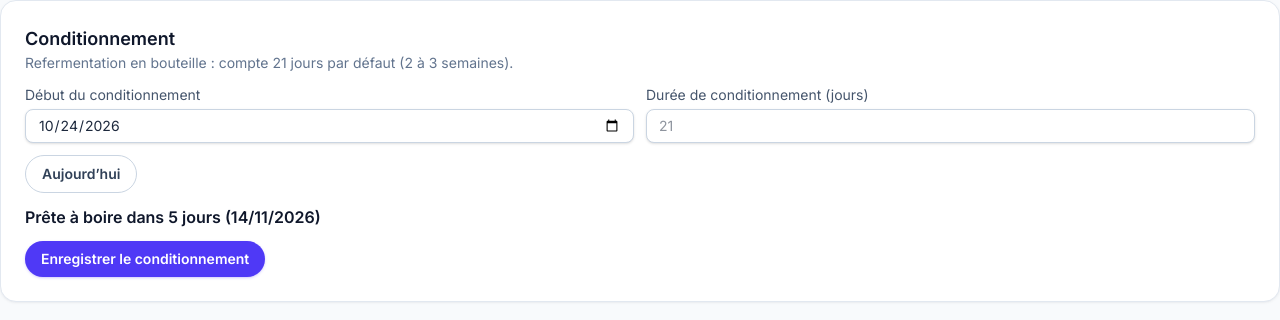
ConditioningCard › recalcule en direct quand on change la date
The image size is (1280, 320).
Type "2026-11-01" into the date field labelled "Début du conditionnement" at (330, 126), box [25,109,634,143]
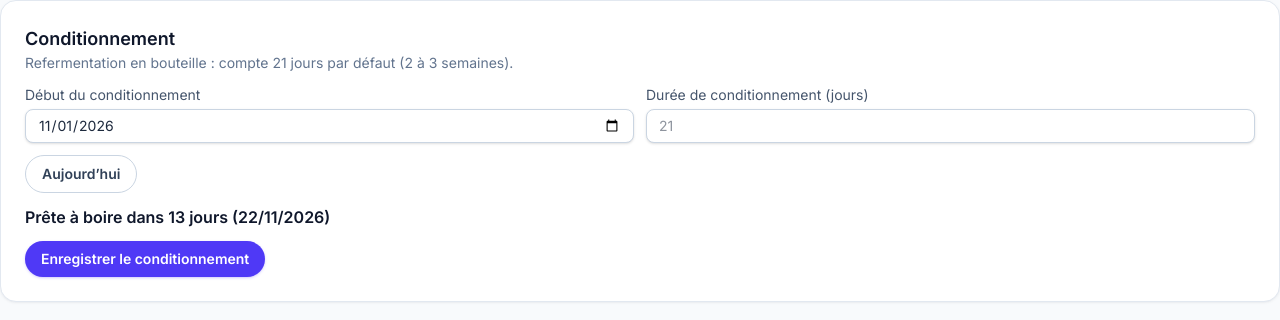
Result: the text "Prête à boire dans 13 jours (22/11/2026)" is shown at [25,207,330,227]
